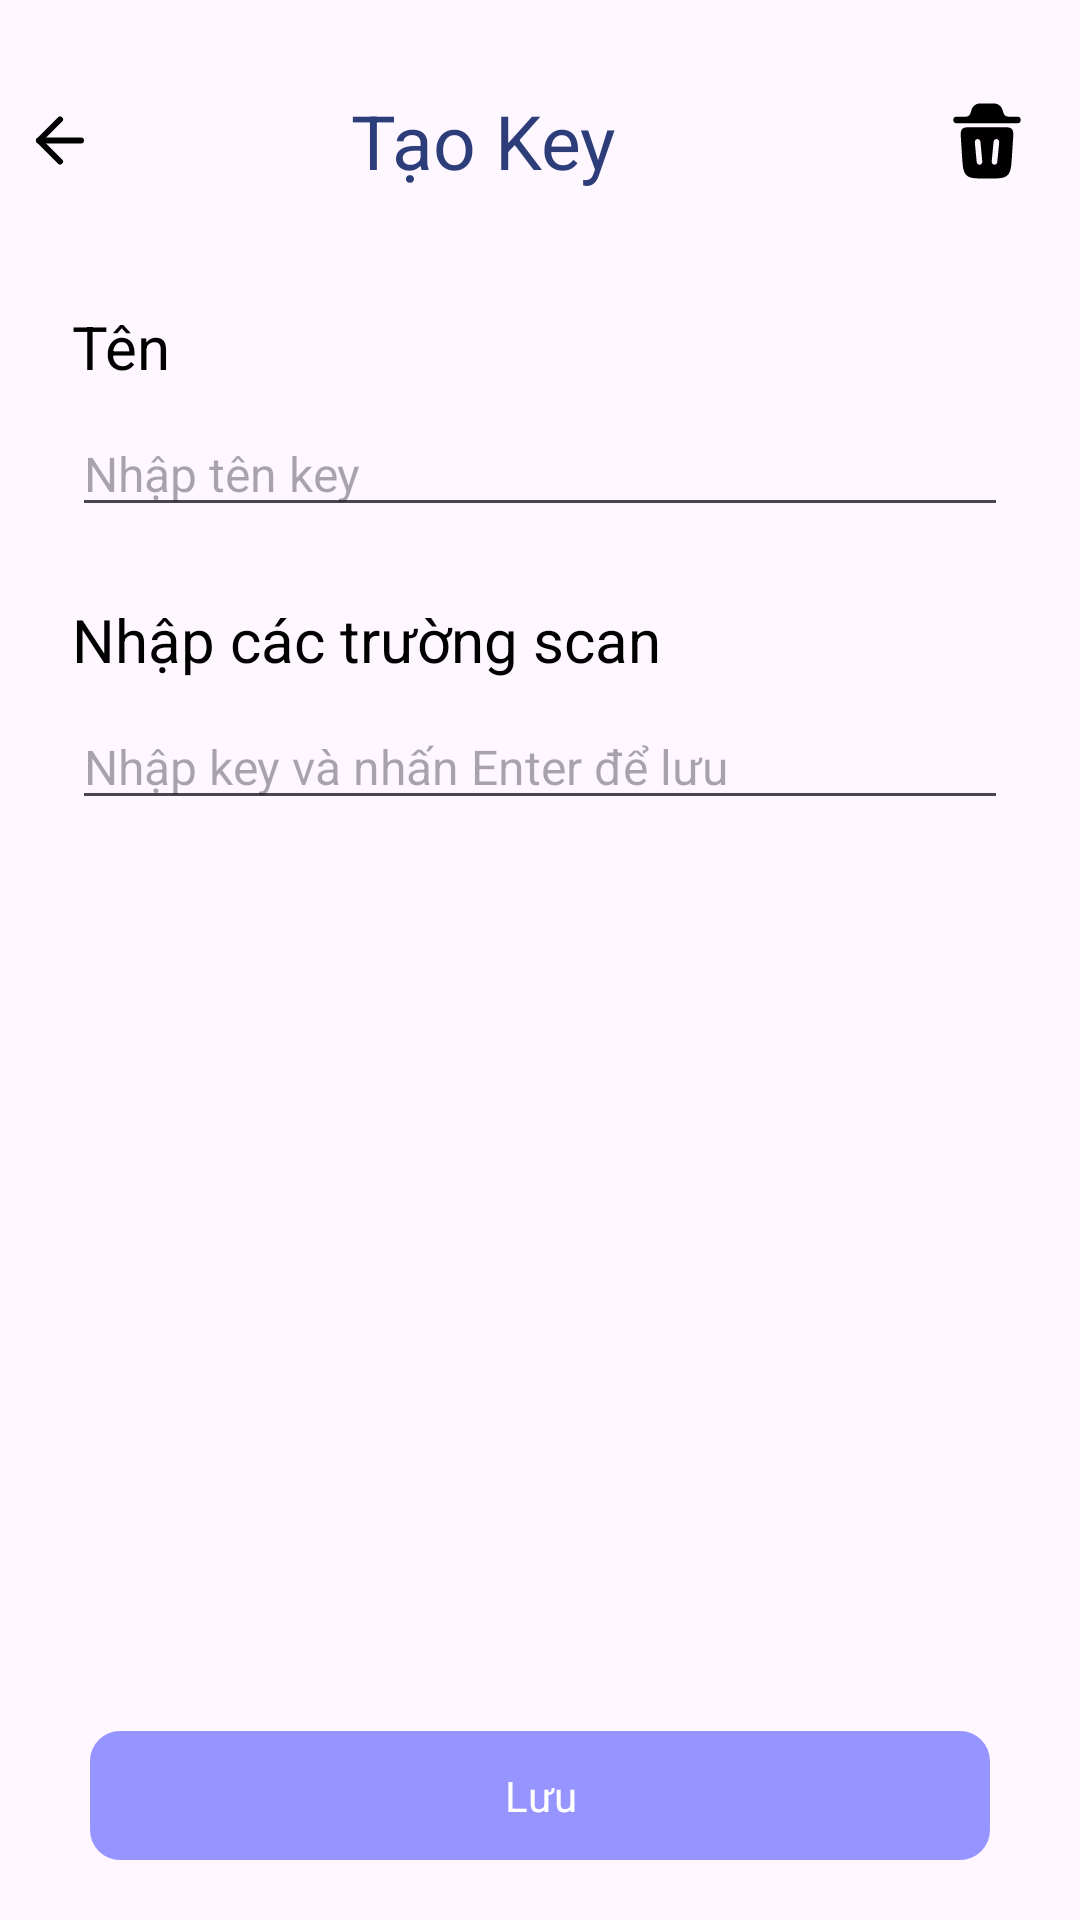

Icon bounding boxes for this 1080px x 1920px phone screenshot, format (x1, y1, x2, y2):
back: (35, 116, 84, 165)
delete: (953, 103, 1021, 179)
